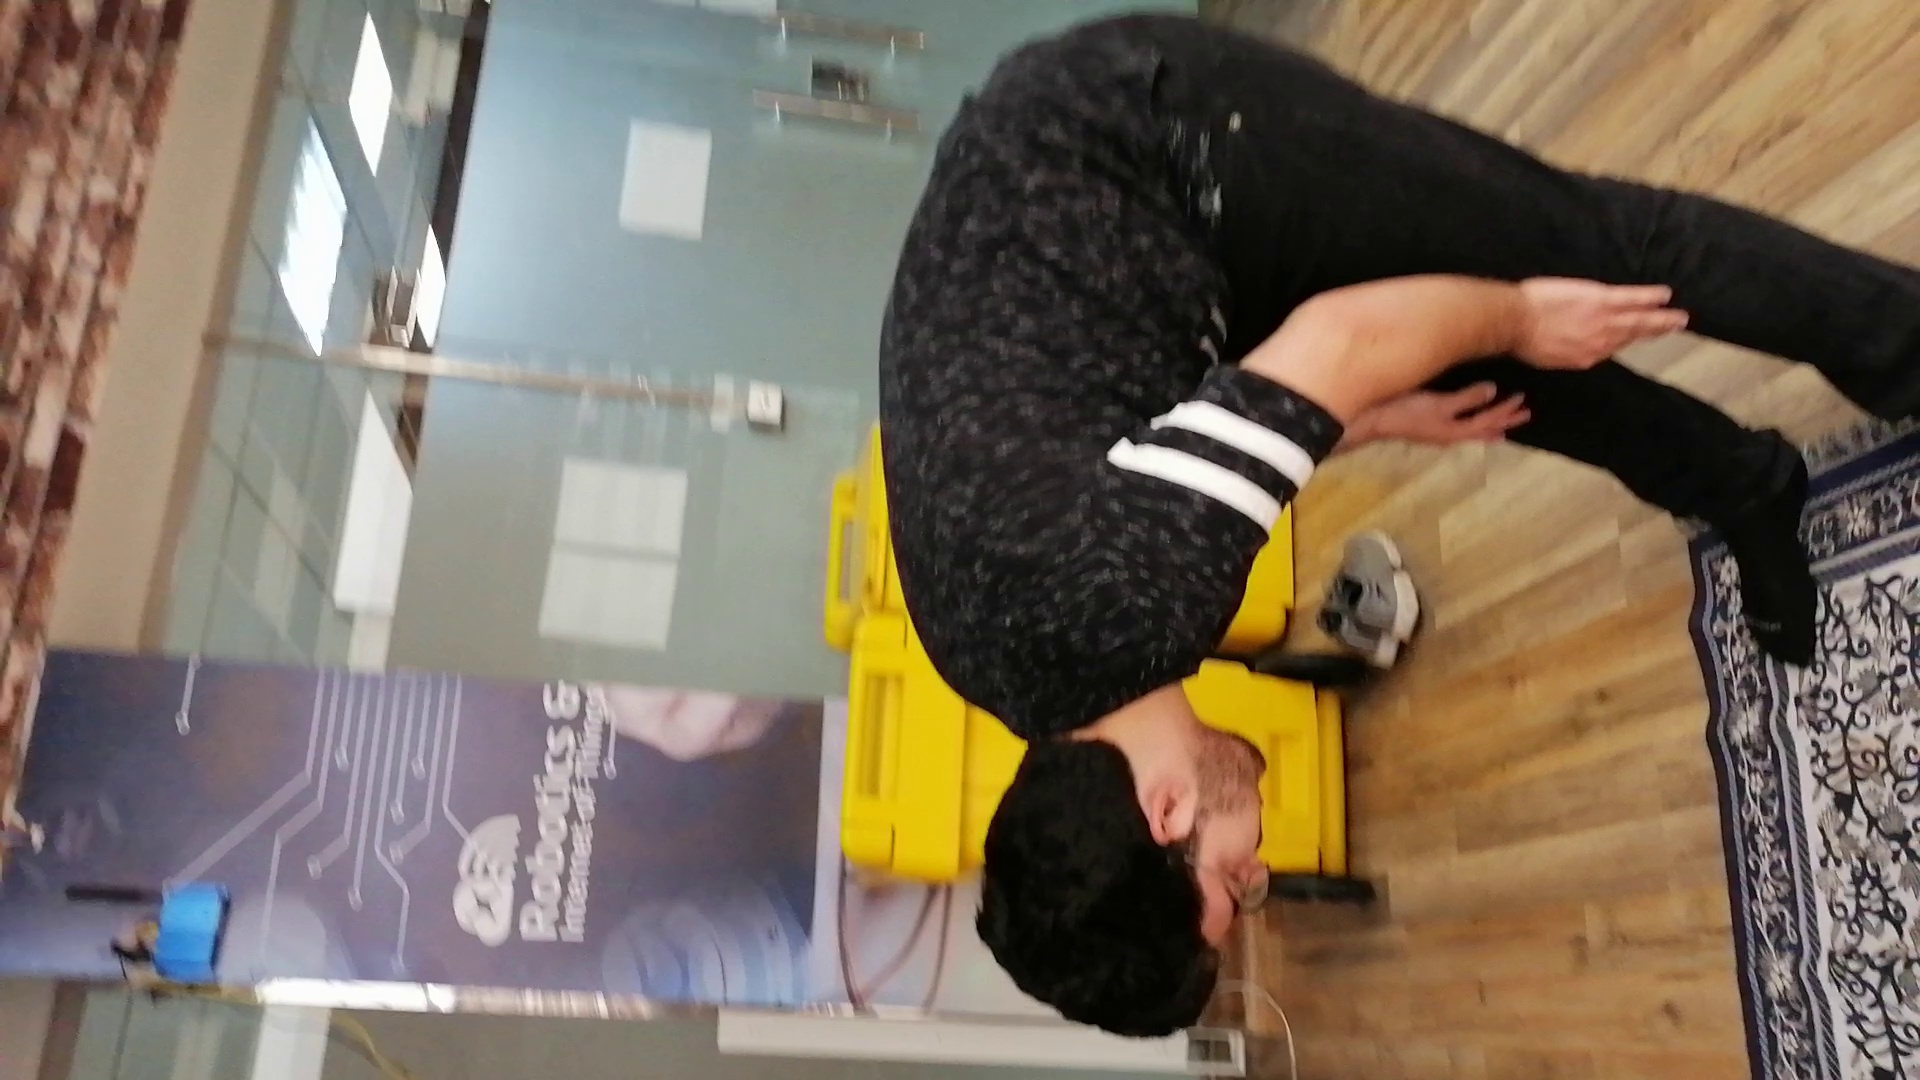ruku: (345, 38, 1920, 1040)
